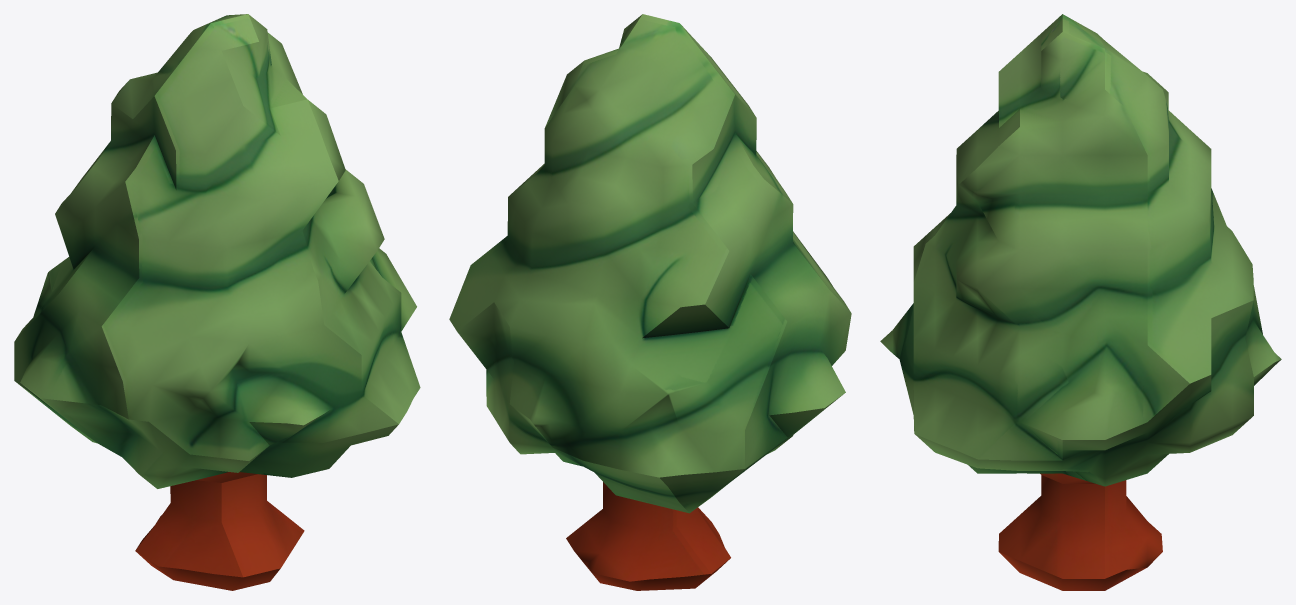
The model's file is tree_9.glb.
3 renders of one model, left to right at view 1: azimuth 30°, elevation 25°; view 2: azimuth 150°, elevation 25°; view 3: azimuth 270°, elevation 25°, orthographic. The views are drawn at different scales.
Visible parts, largest first — view 1: tmp5v9s1zzz.ply; view 2: tmp5v9s1zzz.ply; view 3: tmp5v9s1zzz.ply.
Part boxes in pixels (left/top/right/bottom): tmp5v9s1zzz.ply: left=14, top=14, right=420, bottom=590; tmp5v9s1zzz.ply: left=449, top=14, right=851, bottom=590; tmp5v9s1zzz.ply: left=880, top=14, right=1281, bottom=590.
Bounding box in the file's own units: 1.19 × 1.67 × 1.12.
1 material, 1 textured.
